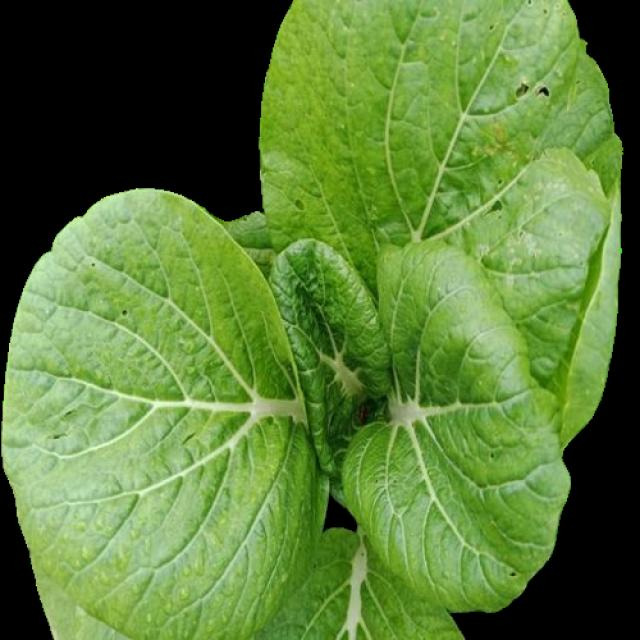mature: (2, 1, 612, 640)
unhealthy: (6, 189, 310, 640), (343, 232, 568, 608), (261, 2, 608, 245)
